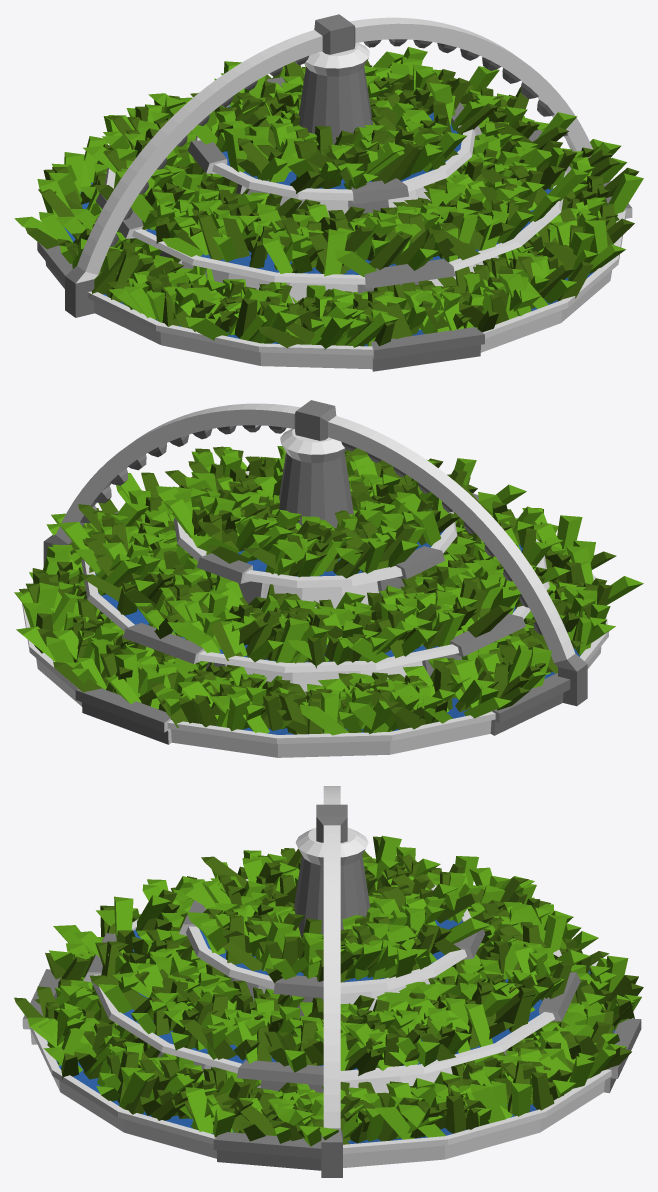
File: Obj_FoodFarm.fbx
3 views of the same model, one above another, from view 1: azimuth 30°, elevation 25°; view 2: azimuth 150°, elevation 25°; view 3: azimuth 270°, elevation 25° (orthographic). The views are drawn at different scales.
Visible parts, largest first — view 1: Base.002, Sprinkler.001, Water, Water|Plant|Dupli|1132, Water|Plant|Dupli|620, Water|Plant.001|Dupli|159, Water|Plant|Dupli|46, Water|Plant.001|Dupli|669, Water|Plant|Dupli|776, Water|Plant.001|Dupli|1251, Water|Plant.001|Dupli|545, Water|Plant|Dupli|790 (+12 smaller); view 2: Base.002, Sprinkler.001, Water, Water|Plant|Dupli|1442, Water|Plant|Dupli|1038, Water|Plant.001|Dupli|387, Water|Plant|Dupli|790, Water|Plant|Dupli|1448, Water|Plant|Dupli|46, Water|Plant|Dupli|140, Water|Plant|Dupli|1472, Water|Plant|Dupli|1382 (+9 smaller); view 3: Base.002, Sprinkler.001, Water, Water|Plant|Dupli|1148, Water|Plant|Dupli|574, Water|Plant.001|Dupli|1405, Water|Plant.001|Dupli|659, Water|Plant|Dupli|1410, Water|Plant.001|Dupli|817, Water|Plant|Dupli|2, Water|Plant|Dupli|686, Water|Plant|Dupli|1426 (+7 smaller).
Boxes of the visible parts, left/top/right/bottom form: Base.002: left=37, top=42, right=632, bottom=371; Sprinkler.001: left=65, top=14, right=592, bottom=317; Water: left=64, top=106, right=593, bottom=346; Water|Plant|Dupli|1132: left=608, top=173, right=643, bottom=214; Water|Plant|Dupli|620: left=324, top=229, right=347, bottom=276; Water|Plant.001|Dupli|159: left=372, top=142, right=422, bottom=183; Water|Plant|Dupli|46: left=223, top=128, right=246, bottom=172; Water|Plant.001|Dupli|669: left=369, top=234, right=410, bottom=269; Water|Plant|Dupli|776: left=347, top=312, right=398, bottom=347; Water|Plant.001|Dupli|1251: left=90, top=248, right=139, bottom=295; Water|Plant.001|Dupli|545: left=197, top=214, right=223, bottom=260; Water|Plant|Dupli|790: left=317, top=317, right=353, bottom=349; Base.002: left=22, top=428, right=608, bottom=757; Sprinkler.001: left=43, top=400, right=587, bottom=706; Water: left=95, top=508, right=580, bottom=734; Water|Plant|Dupli|1442: left=274, top=617, right=308, bottom=662; Water|Plant|Dupli|1038: left=299, top=704, right=348, bottom=735; Water|Plant.001|Dupli|387: left=463, top=605, right=513, bottom=637; Water|Plant|Dupli|790: left=557, top=515, right=582, bottom=554; Water|Plant|Dupli|1448: left=167, top=622, right=221, bottom=649; Water|Plant|Dupli|46: left=411, top=511, right=440, bottom=546; Water|Plant|Dupli|140: left=163, top=499, right=200, bottom=538; Water|Plant|Dupli|1472: left=226, top=697, right=250, bottom=731; Water|Plant|Dupli|1382: left=51, top=592, right=83, bottom=631; Base.002: left=22, top=827, right=641, bottom=1170; Sprinkler.001: left=316, top=786, right=347, bottom=1177; Water: left=47, top=919, right=614, bottom=1143; Water|Plant|Dupli|1148: left=185, top=1087, right=213, bottom=1133; Water|Plant|Dupli|574: left=464, top=1004, right=492, bottom=1046; Water|Plant.001|Dupli|1405: left=445, top=1096, right=466, bottom=1133; Water|Plant.001|Dupli|659: left=507, top=987, right=534, bottom=1032; Water|Plant|Dupli|1410: left=470, top=1083, right=505, bottom=1123; Water|Plant.001|Dupli|817: left=531, top=1072, right=554, bottom=1110; Water|Plant|Dupli|2: left=260, top=921, right=294, bottom=971; Water|Plant|Dupli|686: left=114, top=896, right=133, bottom=938; Water|Plant|Dupli|1426: left=544, top=915, right=567, bottom=952.
Size of the model in its own units: 2170 by 873 by 2130.
